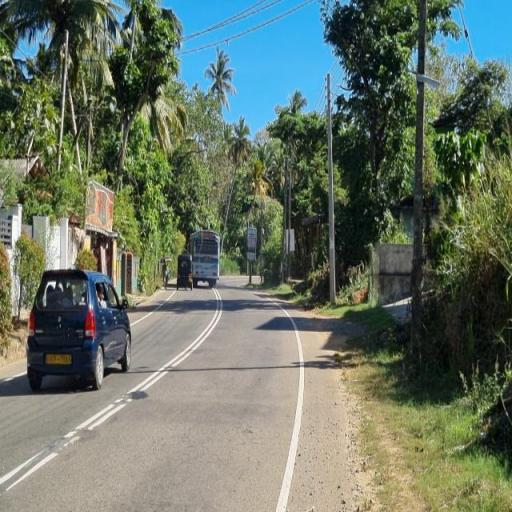double_white_line: (60, 288, 222, 448)
